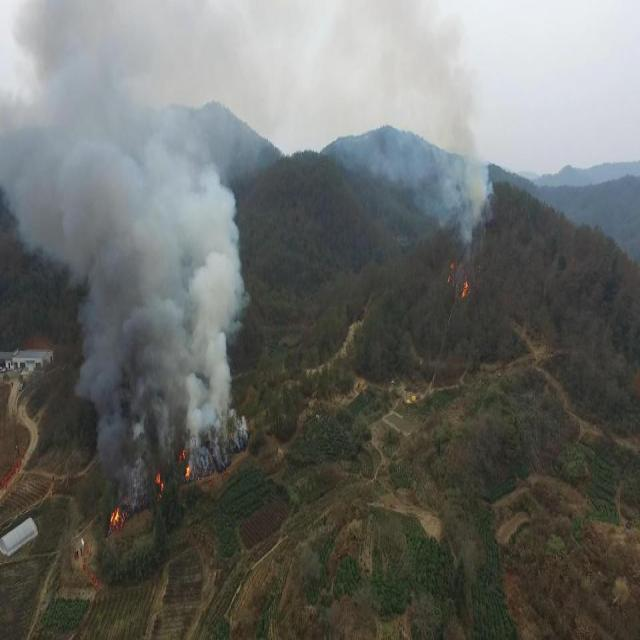Fire: (98, 438, 191, 530), (447, 257, 481, 300)
Smoke: (1, 0, 249, 537), (332, 3, 492, 309)
